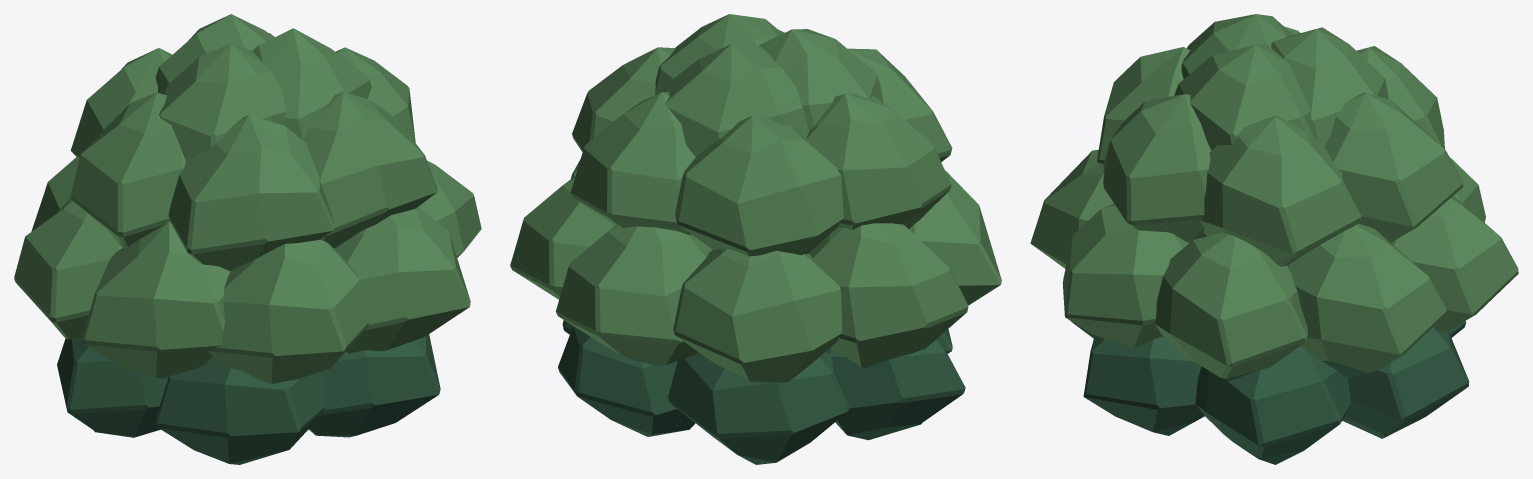
File: b08_boxwood_globe.glb
The picture shows the model from 3 angles, left to right: view 1: azimuth 30°, elevation 25°; view 2: azimuth 150°, elevation 25°; view 3: azimuth 270°, elevation 25°; orthographic projection.
Parts seen in each view (by area): view 1: b08_boxwood_globe; view 2: b08_boxwood_globe; view 3: b08_boxwood_globe.
Boxes of the visible parts, bbox=[...] form: b08_boxwood_globe: bbox=[14, 14, 481, 464]; b08_boxwood_globe: bbox=[510, 14, 1001, 464]; b08_boxwood_globe: bbox=[1030, 14, 1518, 464].
Bounding box in the file's own units: 1.16 × 1.06 × 1.17.
